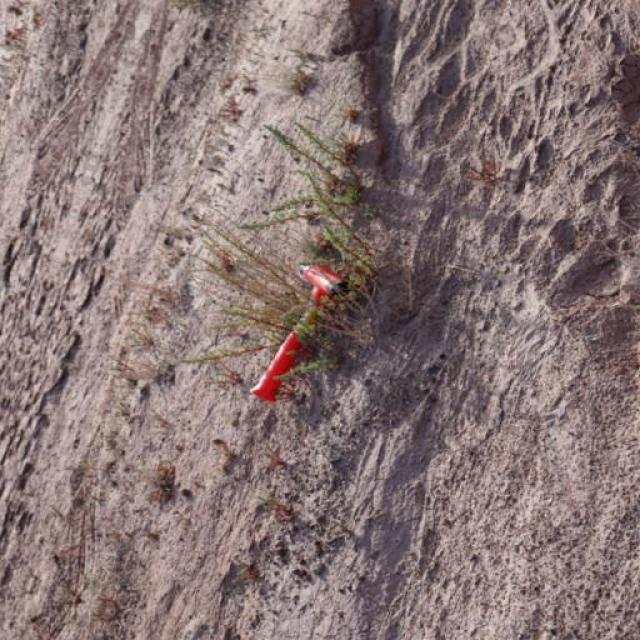mallet: (248, 262, 350, 402)
